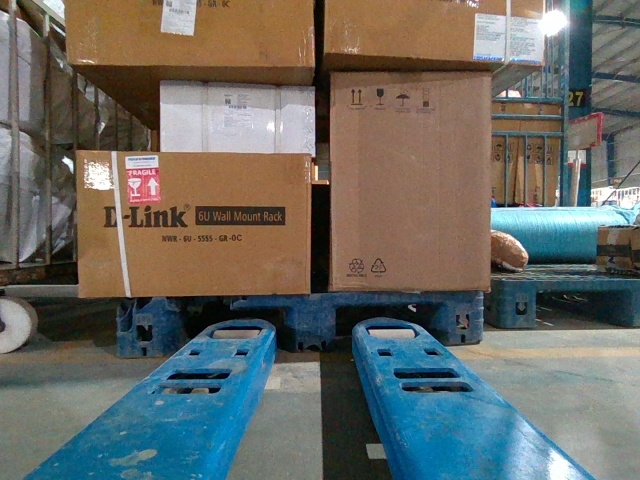pallet: (120, 290, 481, 358)
